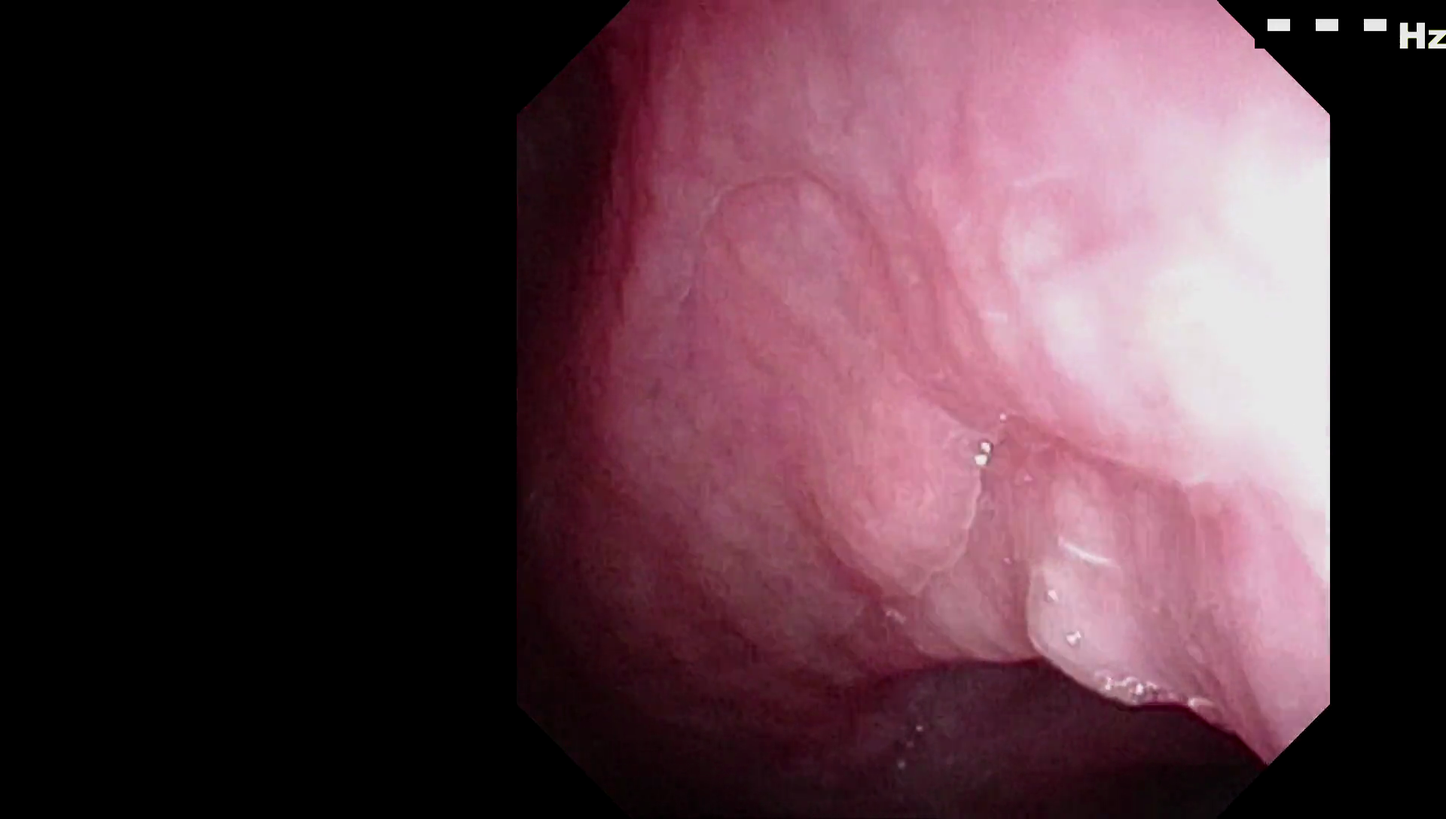close_wall: (828, 86, 1315, 601)
next: (527, 599, 804, 790), (986, 641, 1275, 819)
